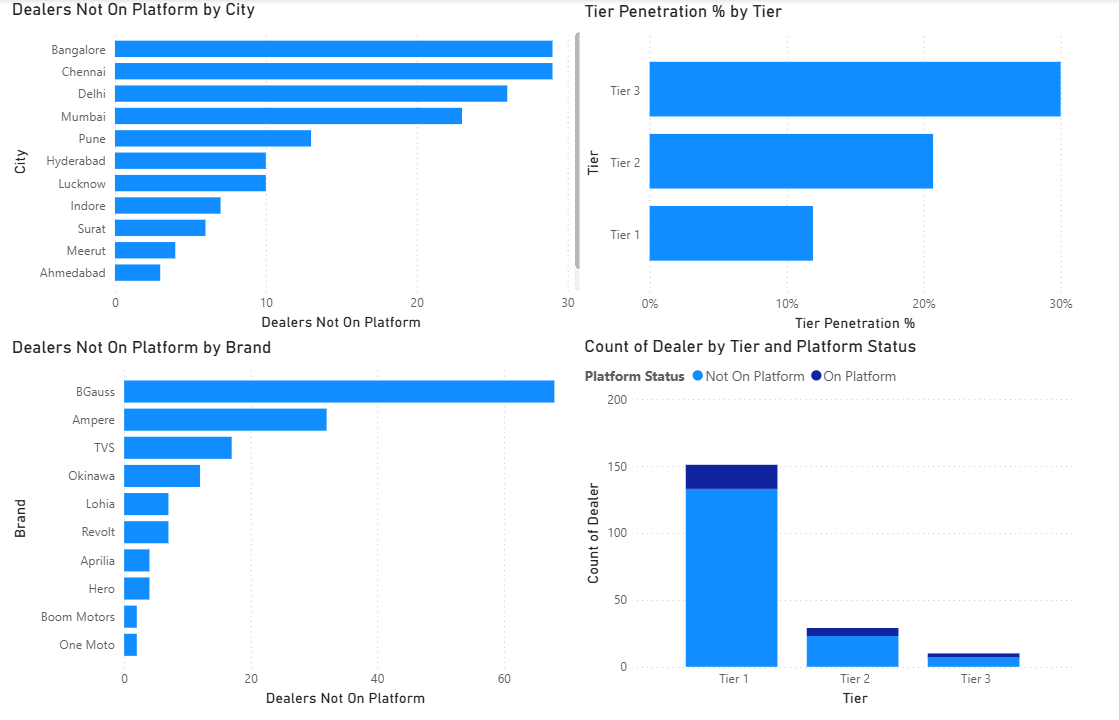

The page's visual inventory and layout, read from the dashboard file:
{"tool":"powerbi","page":{"name":"Market Opportunity","canvas":[1280,720],"ordinal":1},"visuals":[{"type":"clusteredBarChart","fields":{"Category":["Dealers.City"],"Y":["Dealers.Dealers Not On Platform"]},"box":[9.8,0,568.6,328.9],"z":0},{"type":"columnChart","fields":{"Category":["Dealers.Tier"],"Y":["CountNonNull(Dealers.Dealer)"],"Series":["Dealers.Platform Status"]},"box":[569.8,328.9,487.9,368.1],"z":1000},{"type":"clusteredBarChart","fields":{"Category":["Dealers.Brand"],"Y":["Dealers.Dealers Not On Platform"]},"box":[9.8,330.2,560.1,366.8],"z":2000},{"type":"clusteredBarChart","fields":{"Category":["Dealers.Tier"],"Y":["Dealers.Tier Penetration %"]},"box":[569.8,1.2,487.9,328.9],"z":3000}]}

Visuals, with their boxes on the page's 1280x720 design canvas (x1, y1, x2, y2). These are canvas units, not pixel positions in the 1119x720 screenshot, which may show the page scaled, cropped or inside an application window:
clusteredBarChart - Dealers.City x Dealers.Dealers Not On Platform: bbox(10, 0, 578, 329)
columnChart - Dealers.Tier x CountNonNull(Dealers.Dealer): bbox(570, 329, 1058, 697)
clusteredBarChart - Dealers.Brand x Dealers.Dealers Not On Platform: bbox(10, 330, 570, 697)
clusteredBarChart - Dealers.Tier x Dealers.Tier Penetration %: bbox(570, 1, 1058, 330)
